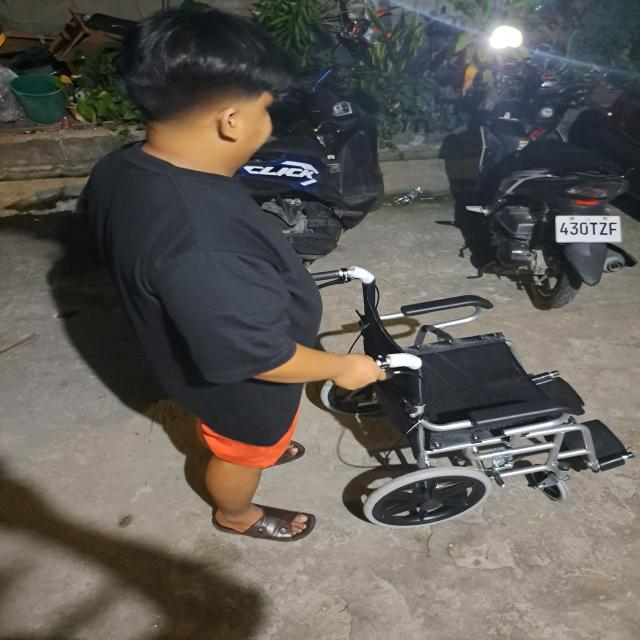wheelchairs: (304, 263, 640, 536)
